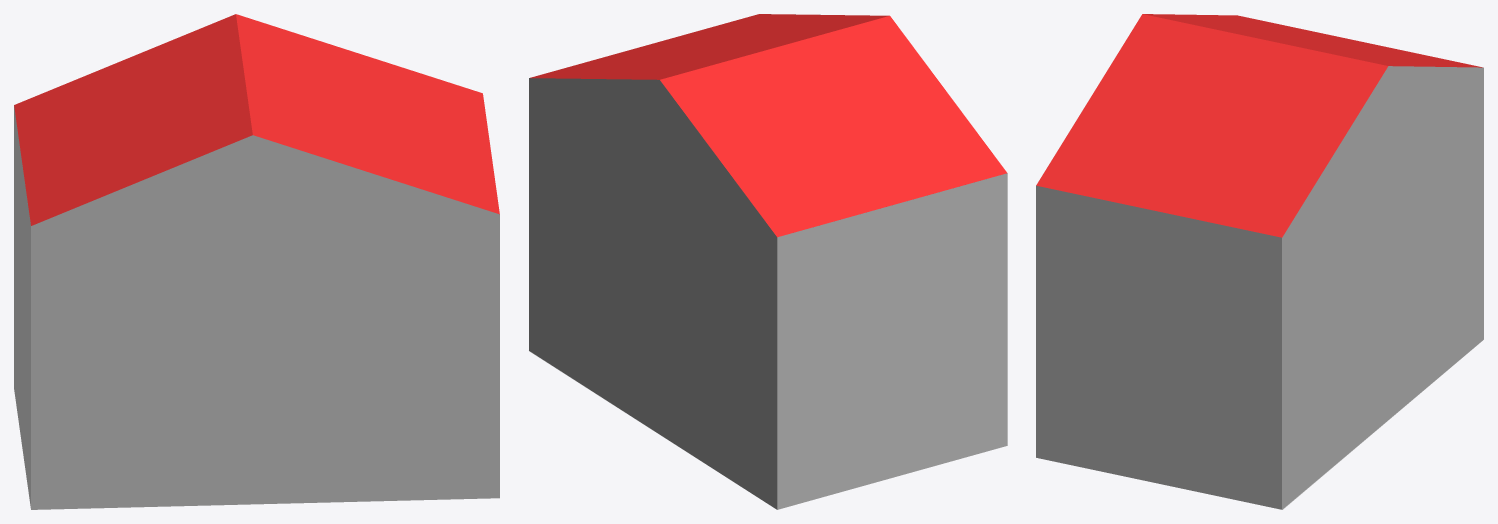
The model's file is pb-477ad069-7f52-11f0-aebd-9c7bef4dcf4c.dae.
3 renders of one model, left to right at view 1: azimuth 30°, elevation 25°; view 2: azimuth 150°, elevation 25°; view 3: azimuth 270°, elevation 25°, orthographic. The views are drawn at different scales.
Size of the model in its own units: 10.52 by 8.95 by 7.81.
